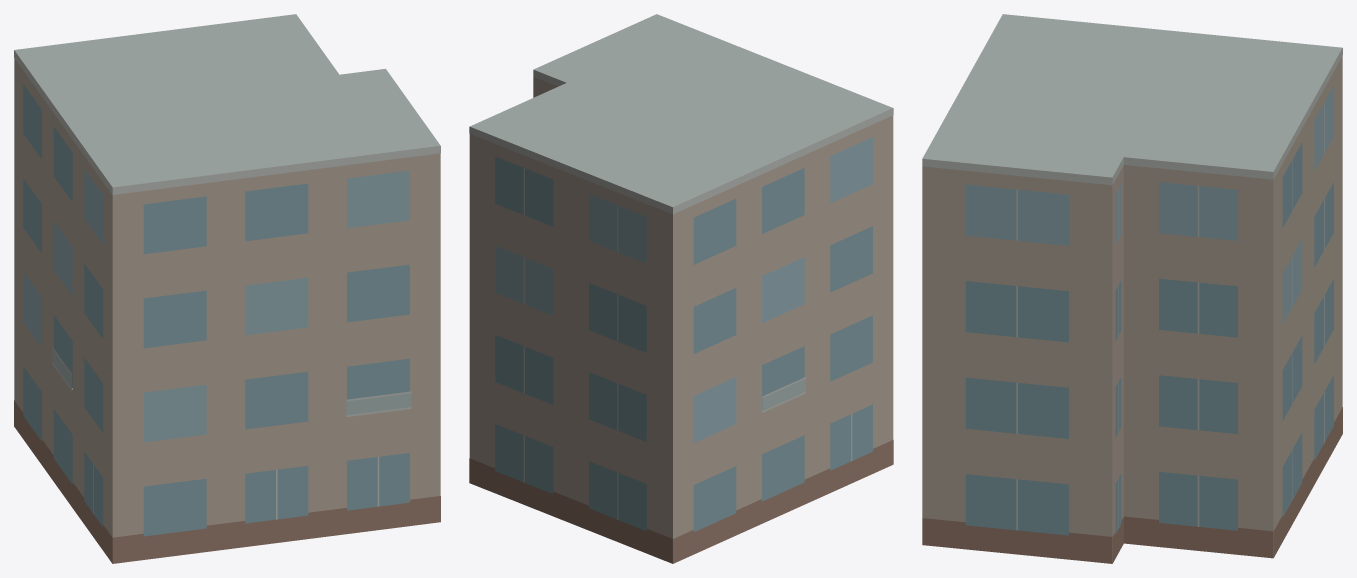
Rendered from residential-aece9ea3-7184-4586-ba3c-54e9b0929b0f.glb.
3 renders of one model, left to right at view 1: azimuth 30°, elevation 25°; view 2: azimuth 150°, elevation 25°; view 3: azimuth 270°, elevation 25°, orthographic. The views are drawn at different scales.
Visible parts, largest first — view 1: residential-aece9ea3-7184-4586-ba3c-54e9b0929b0f.tmp; view 2: residential-aece9ea3-7184-4586-ba3c-54e9b0929b0f.tmp; view 3: residential-aece9ea3-7184-4586-ba3c-54e9b0929b0f.tmp.
Boxes of the visible parts, <box> form: residential-aece9ea3-7184-4586-ba3c-54e9b0929b0f.tmp: <box>14,14,440,563</box>; residential-aece9ea3-7184-4586-ba3c-54e9b0929b0f.tmp: <box>469,14,893,563</box>; residential-aece9ea3-7184-4586-ba3c-54e9b0929b0f.tmp: <box>922,14,1342,563</box>.
Bounding box in the file's own units: 11.09 × 12.2 × 12.05.
